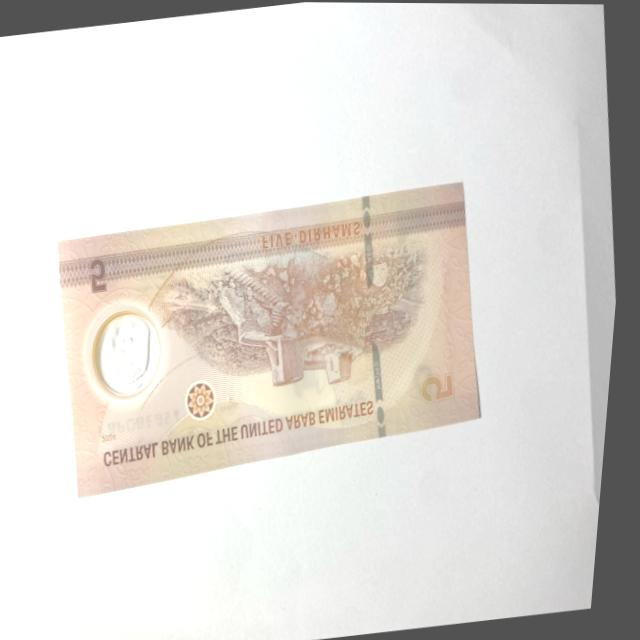5_AED: (57, 176, 482, 501)
